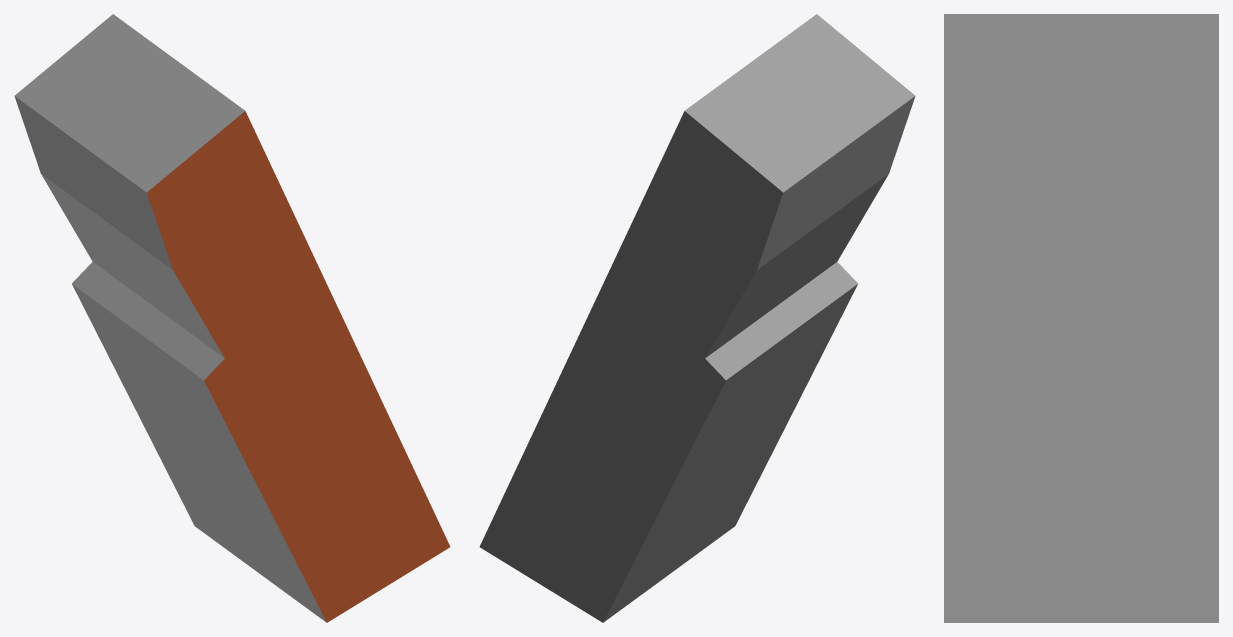
File: construction_5708_assumed_A_Casa_h6m.obj
3 renders of one model, left to right at view 1: azimuth 30°, elevation 25°; view 2: azimuth 150°, elevation 25°; view 3: azimuth 270°, elevation 25°, orthographic. The views are drawn at different scales.
Visible parts, largest first — view 1: construction_5708_assumed_A_Casa; view 2: construction_5708_assumed_A_Casa; view 3: construction_5708_assumed_A_Casa.
Boxes of the visible parts, x1,y1,x2,y2 form: construction_5708_assumed_A_Casa: [14, 14, 450, 622]; construction_5708_assumed_A_Casa: [479, 14, 915, 622]; construction_5708_assumed_A_Casa: [944, 14, 1218, 622].
Size of the model in its own units: 7.96 by 13.31 by 6.
